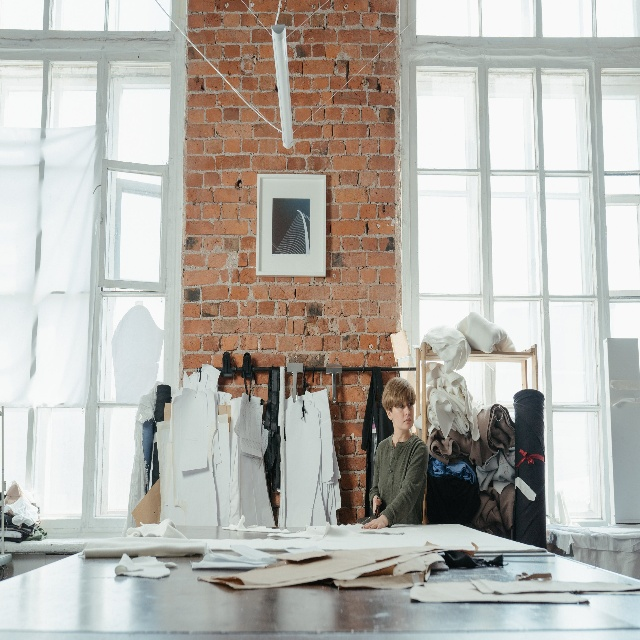Sin_guantes: (361, 514, 386, 530), (372, 495, 380, 515)
